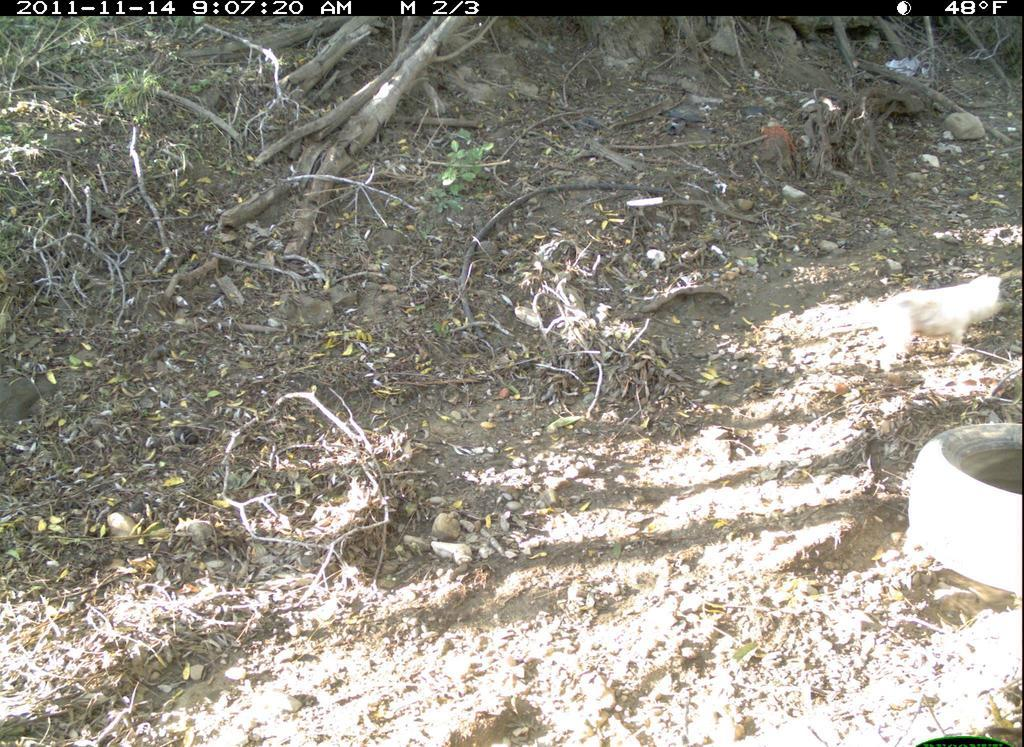dog: (842, 270, 1010, 375)
